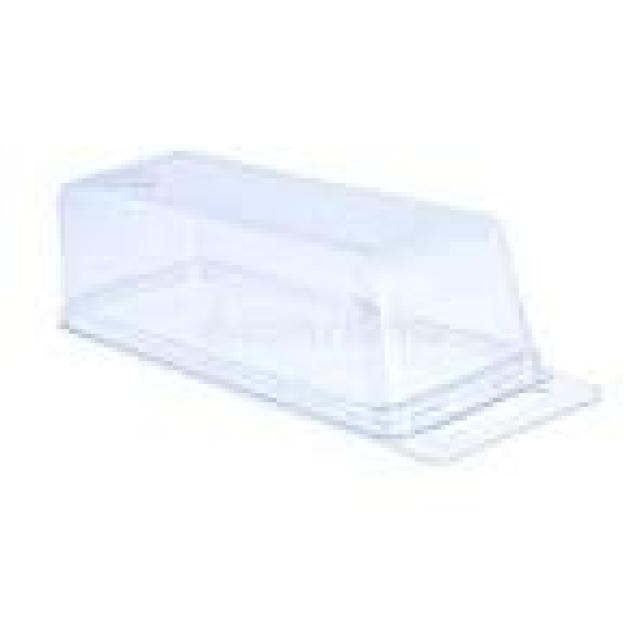Clamshell: (32, 116, 608, 478)
